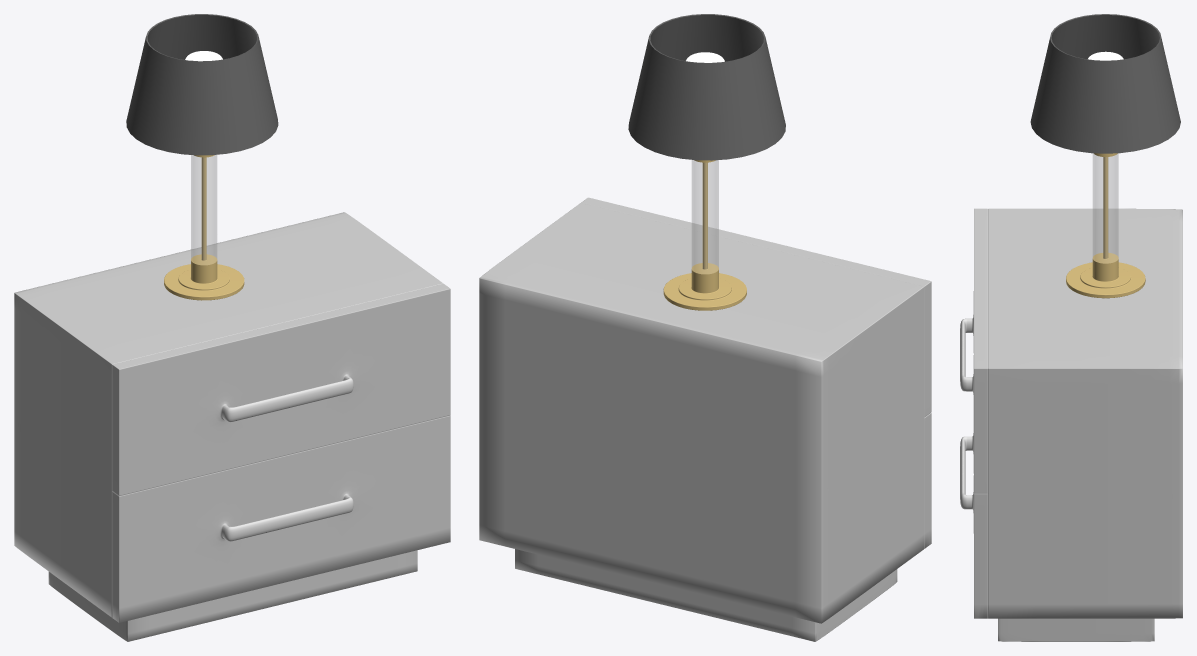
File: lamp.glb
The picture shows the model from 3 angles, left to right: view 1: azimuth 30°, elevation 25°; view 2: azimuth 150°, elevation 25°; view 3: azimuth 270°, elevation 25°; orthographic projection. The views are drawn at different scales.
Visible parts, largest first — view 1: bedside table_Material.033_0, Circle.001_Material.002_0, bedside table_steel.001_0, Circle_metal body_0, Circle_glass handle_0; view 2: bedside table_Material.033_0, Circle.001_Material.002_0, Circle_metal body_0, Circle_glass handle_0; view 3: bedside table_Material.033_0, Circle.001_Material.002_0, Circle_metal body_0, Circle_glass handle_0, bedside table_steel.001_0.
Part boxes in pixels (left/top/right/bottom): bedside table_Material.033_0: left=14, top=212, right=450, bottom=641; Circle.001_Material.002_0: left=126, top=14, right=278, bottom=155; bedside table_steel.001_0: left=221, top=375, right=353, bottom=541; Circle_metal body_0: left=164, top=155, right=244, bottom=300; Circle_glass handle_0: left=191, top=155, right=217, bottom=264; bedside table_Material.033_0: left=479, top=197, right=931, bottom=641; Circle.001_Material.002_0: left=628, top=14, right=785, bottom=160; Circle_metal body_0: left=663, top=160, right=746, bottom=310; Circle_glass handle_0: left=692, top=160, right=718, bottom=273; bedside table_Material.033_0: left=972, top=208, right=1182, bottom=641; Circle.001_Material.002_0: left=1030, top=14, right=1180, bottom=153; Circle_metal body_0: left=1066, top=153, right=1145, bottom=298; Circle_glass handle_0: left=1093, top=153, right=1118, bottom=263; bedside table_steel.001_0: left=960, top=318, right=971, bottom=509.
Size of the model in its own units: 51.67 by 79.38 by 30.41.
